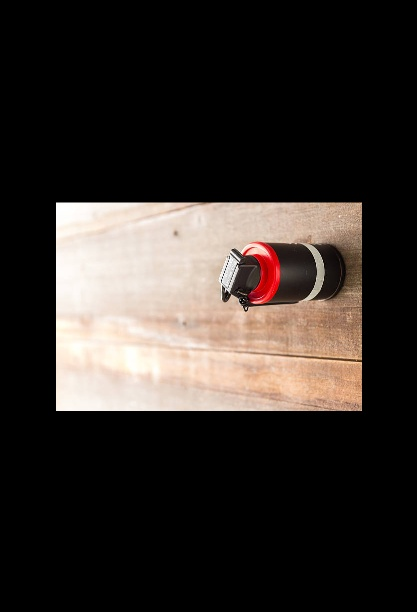e1: (214, 240, 353, 313)
